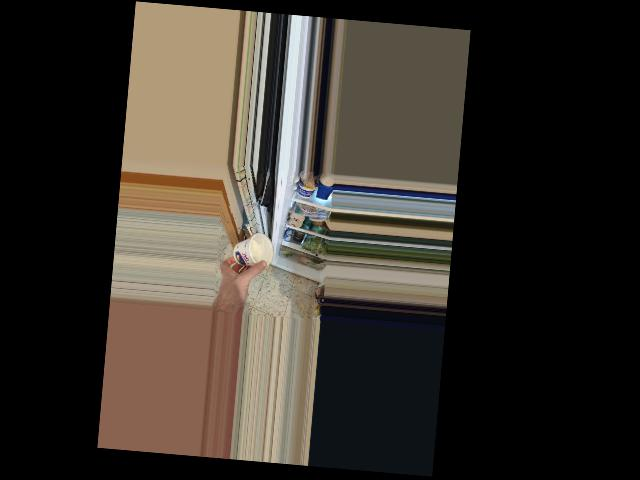cotage: (231, 233, 271, 269)
